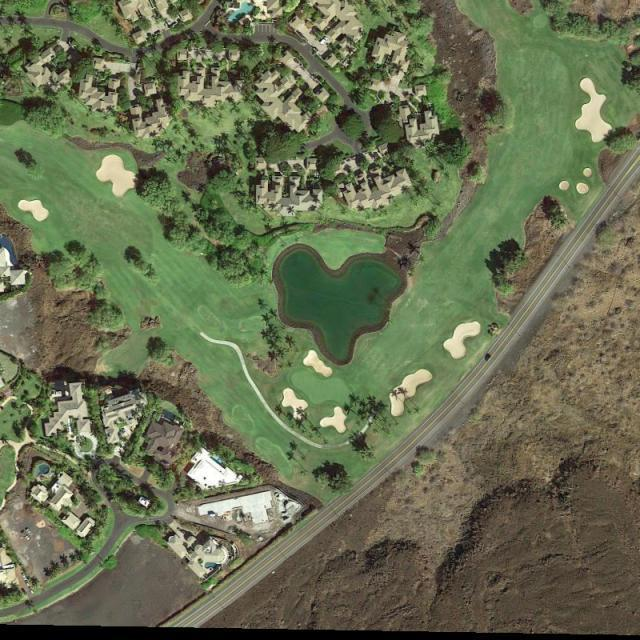vehicle: (319, 36, 329, 46), (485, 353, 492, 362), (29, 586, 35, 596), (26, 529, 34, 536), (22, 572, 28, 581), (24, 534, 31, 541), (26, 581, 30, 587)
